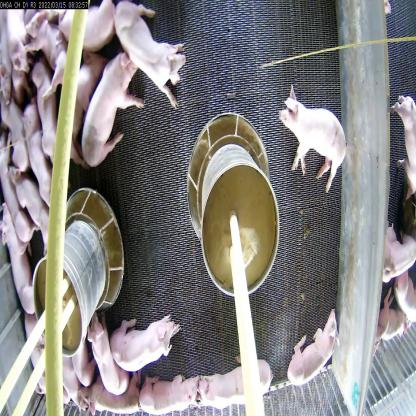Pig: (78, 47, 140, 171), (107, 0, 182, 99), (281, 88, 345, 199), (277, 296, 334, 390), (105, 317, 181, 376), (14, 90, 53, 199), (33, 48, 66, 174), (201, 360, 272, 416), (58, 5, 116, 67), (89, 305, 121, 402), (142, 369, 205, 415), (0, 213, 32, 297)
